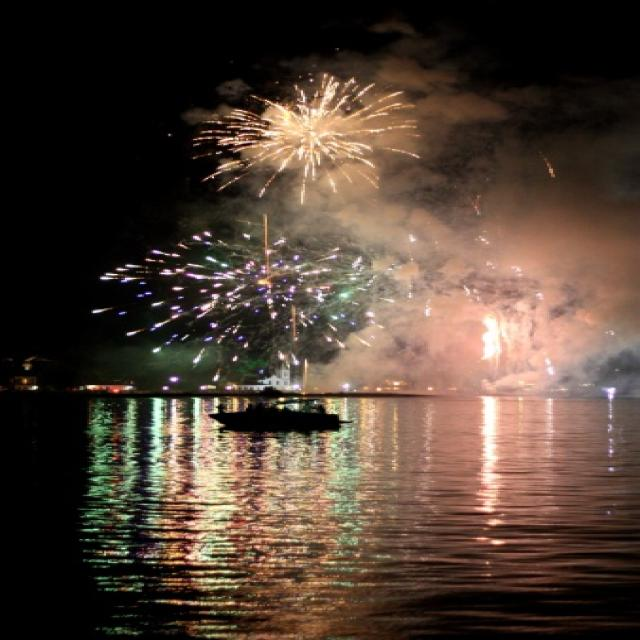Boat: (175, 391, 395, 451)
